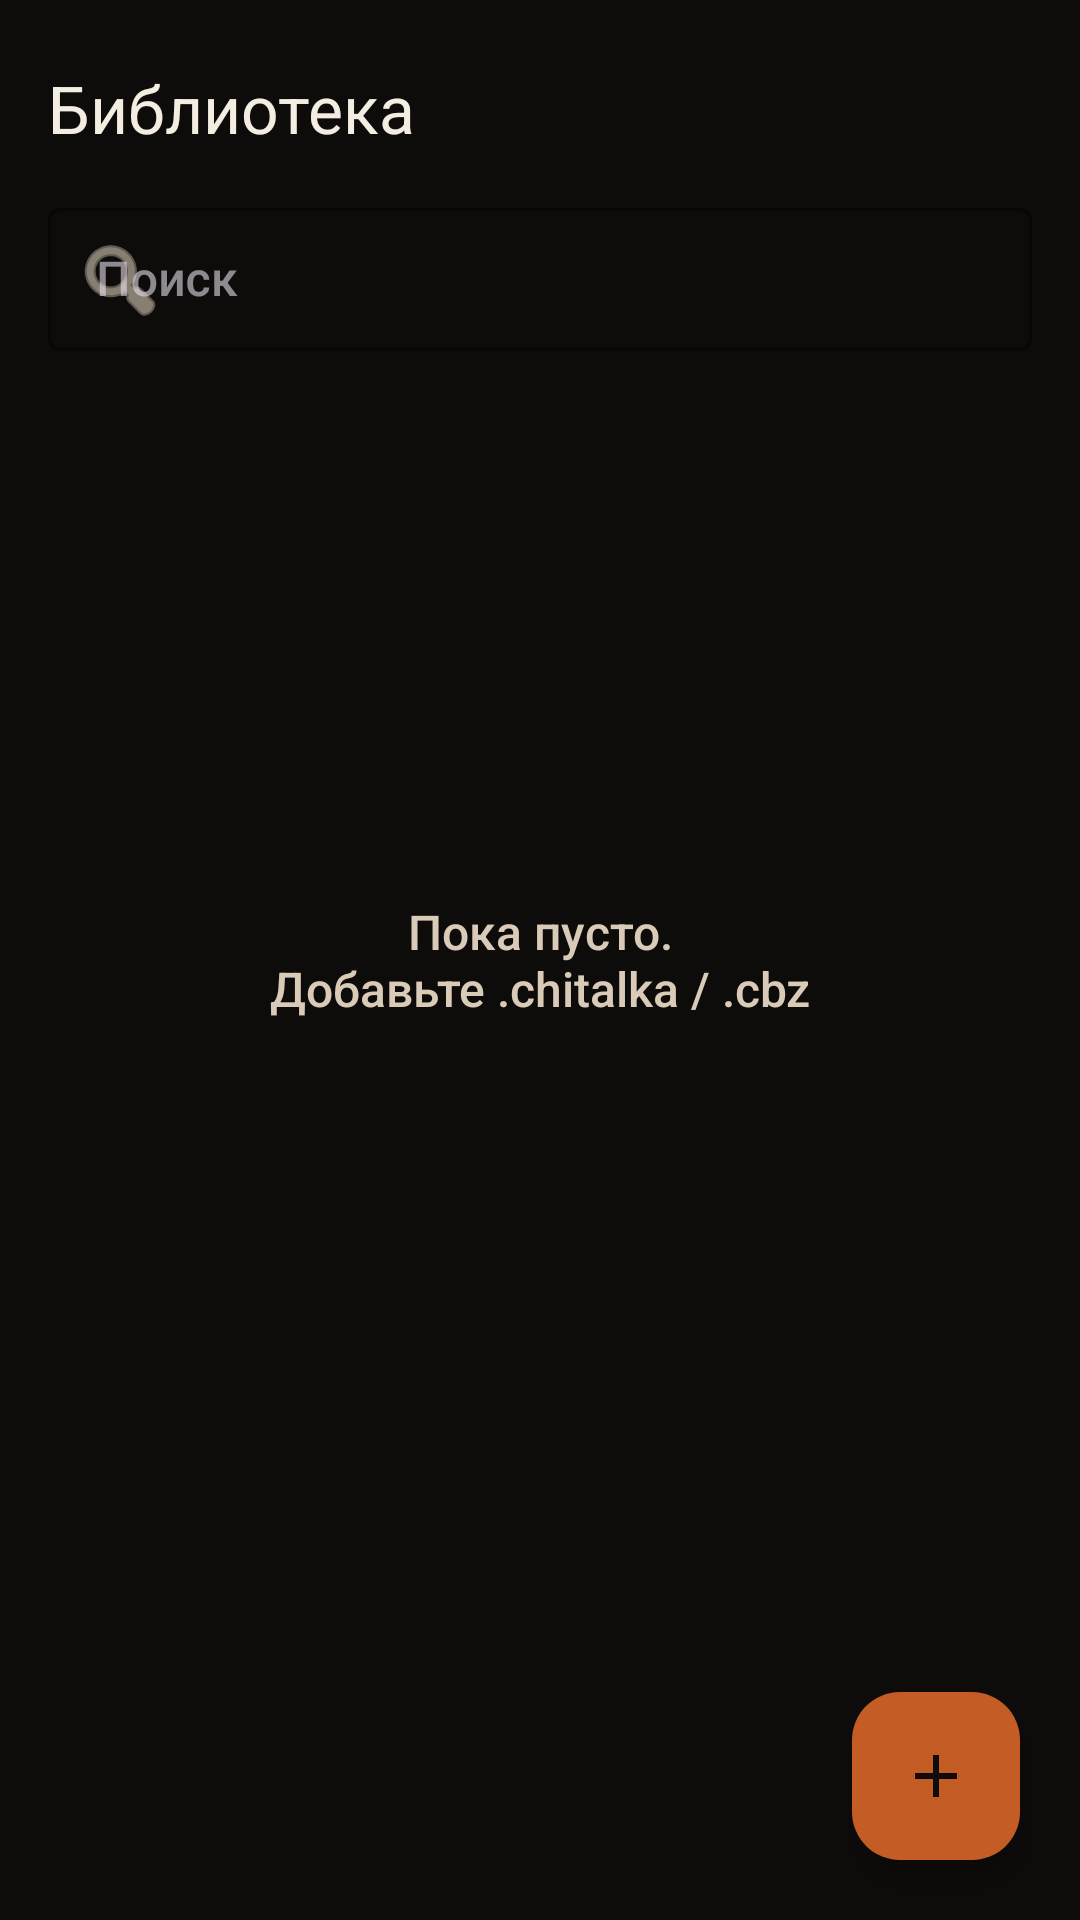

Named icons in this screenshot (1080px x 1920px) and their centers, (x,y):
Добавить .chitalka: (936,1776)
